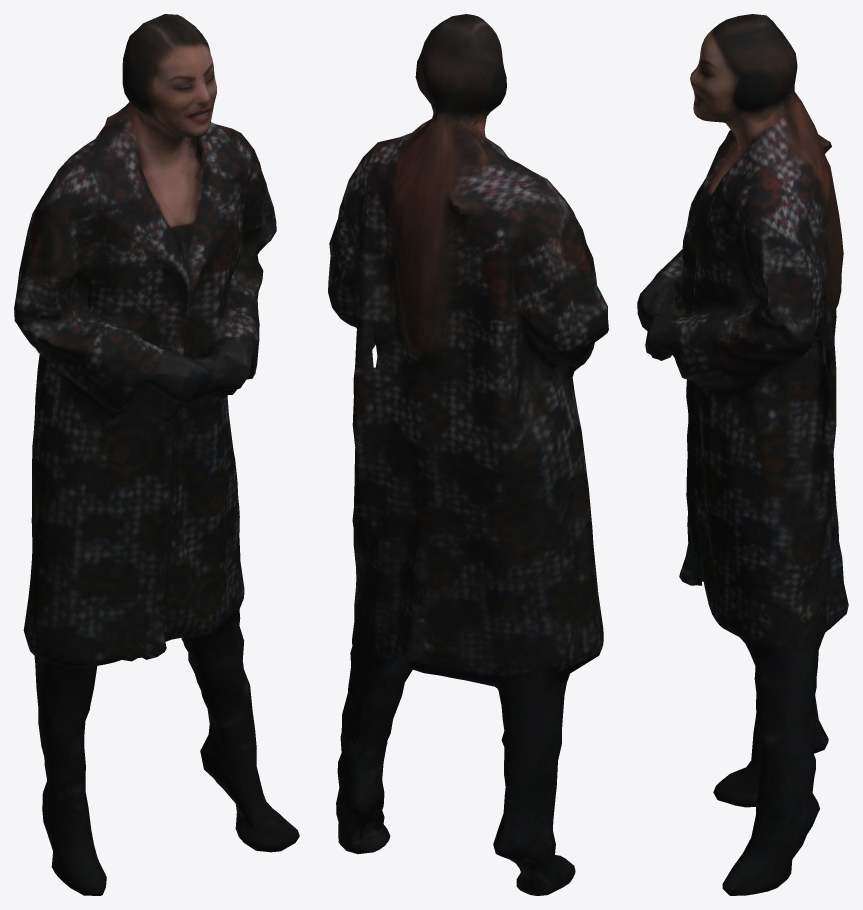
Rendered from evercoast.0079.gltf.
3 views of the same model, side by side, from view 1: azimuth 30°, elevation 25°; view 2: azimuth 150°, elevation 25°; view 3: azimuth 270°, elevation 25° (orthographic). The views are drawn at different scales.
Visible parts, largest first — view 1: HIGH; view 2: HIGH; view 3: HIGH.
Part boxes in pixels (bbox=[...]): HIGH: bbox=[14, 14, 299, 895]; HIGH: bbox=[328, 14, 608, 895]; HIGH: bbox=[637, 14, 848, 895].
Size of the model in its own units: 0.6122 by 1.83 by 0.4246.
1 material, 1 textured.
